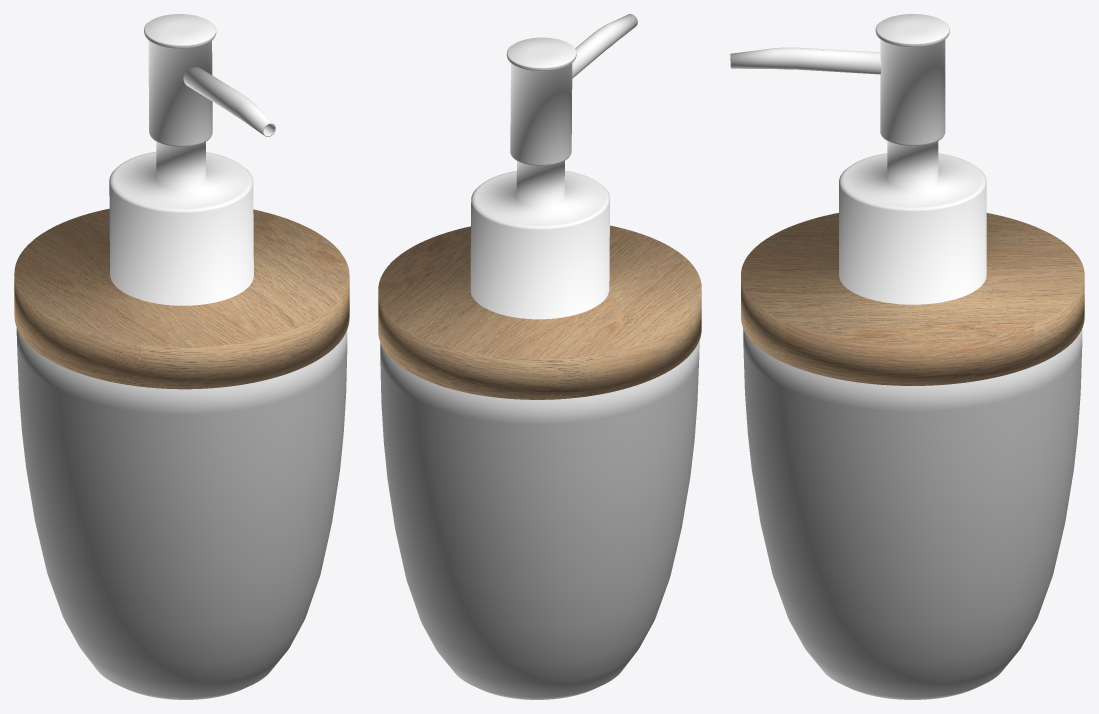
Rendered from soap.gltf.
3 views of the same model, side by side, from view 1: azimuth 30°, elevation 25°; view 2: azimuth 150°, elevation 25°; view 3: azimuth 270°, elevation 25° (orthographic). The views are drawn at different scales.
Parts seen in each view (by area): view 1: Cylinder; view 2: Cylinder; view 3: Cylinder.
Part boxes in pixels (left/top/right/bottom): Cylinder: left=14, top=14, right=349, bottom=699; Cylinder: left=378, top=14, right=701, bottom=699; Cylinder: left=730, top=14, right=1084, bottom=699.
Size of the model in its own units: 3.86 by 8.26 by 4.12.
Materials: 3 (1 with a texture image).
